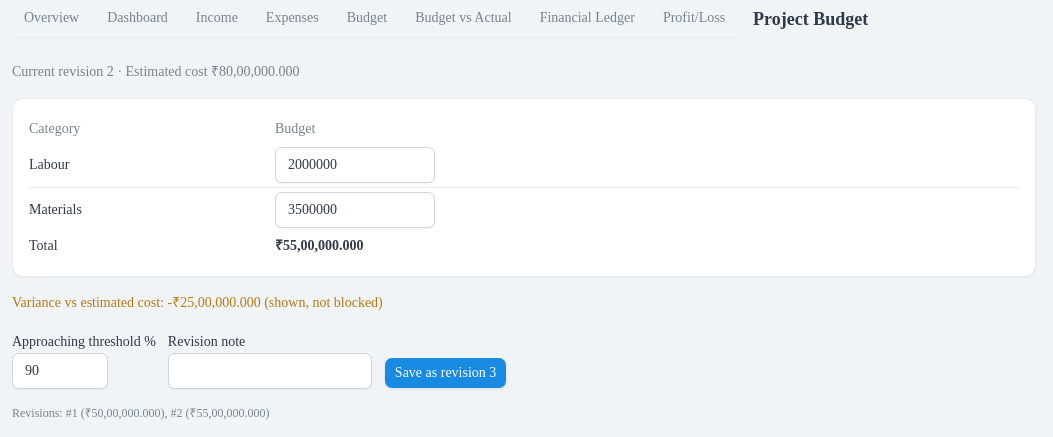
it: ProjectBudgetPage › BudgetEditor_ShowsRevisionAndVariance_AndOnlyCostCategories
The width and height of the screenshot is (1053, 437).
Check: the text with test id "budget-heading" shows "Current revision 2", box left=12, top=64, right=114, bottom=79
Check: the field named "Budget Labour" is shown, box left=275, top=147, right=435, bottom=183
Editing a line updates the total and the (displayed, not blocking) variance.
Replace the text in the field named "Budget Materials" with "4500000" at (355, 210), box left=275, top=192, right=435, bottom=228
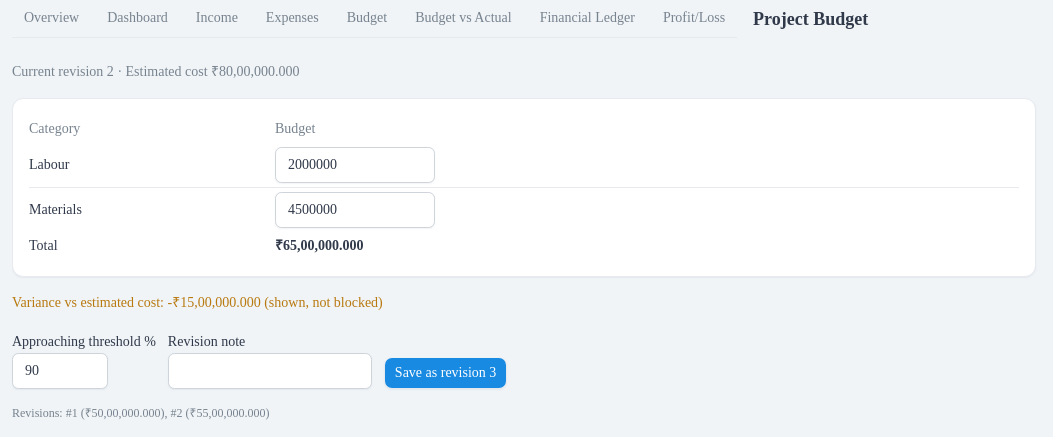
Check: the text with test id "budget-variance" shows "not blocked", box left=261, top=295, right=383, bottom=310
Check: the cell with test id "budget-total" shows "₹65,00,000.00", box left=275, top=238, right=363, bottom=253
